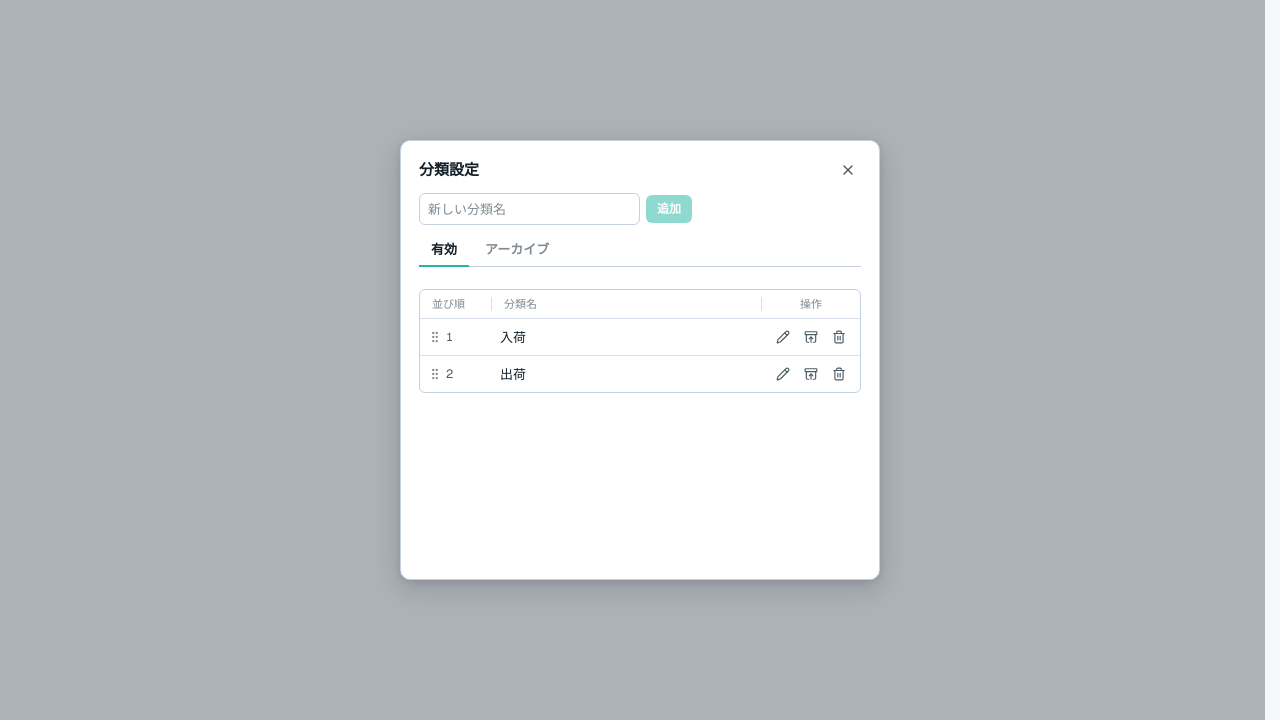
Test case: CategorySettingsDialog（rete-desk-0140） › 削除 409: backend の error.message（アーカイブ案内）をそのまま表示すること
Expected: the text "入荷" is shown, [500,328,526,346]
Click the button named "入荷 を削除": [839, 337] box [826,324,852,350]
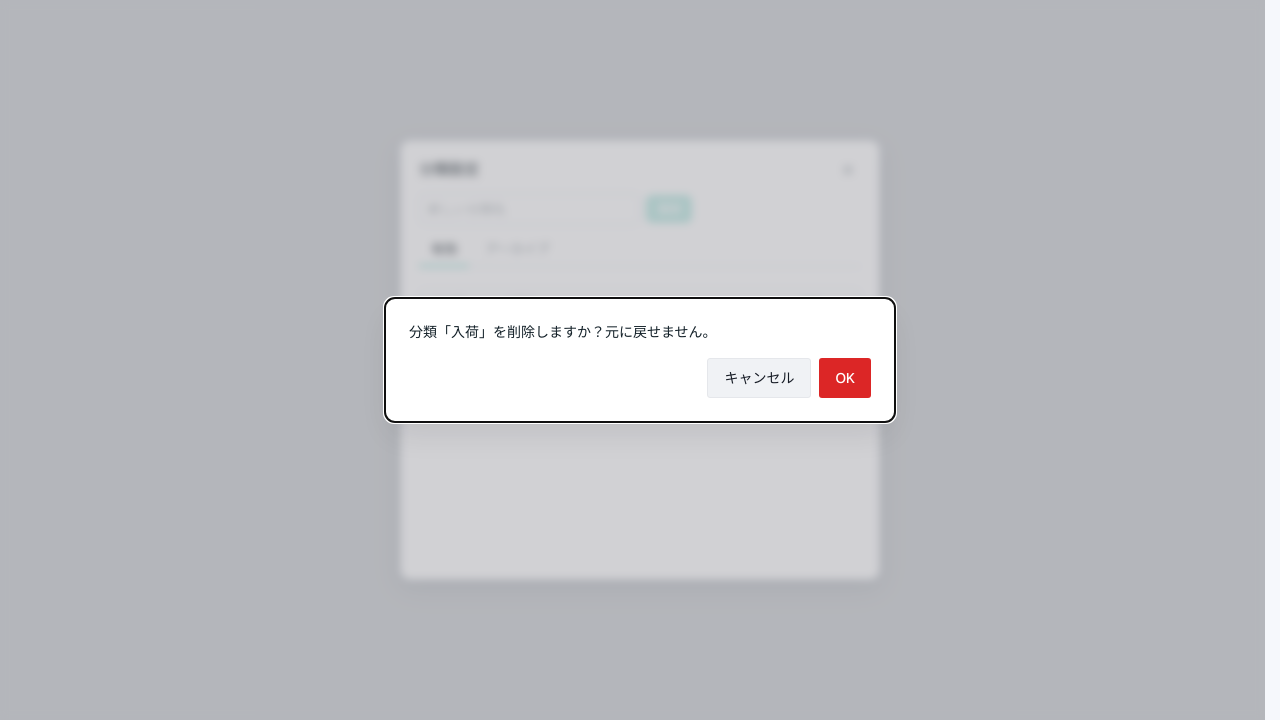
Click the button "OK": [845, 378] box [820,358,871,398]
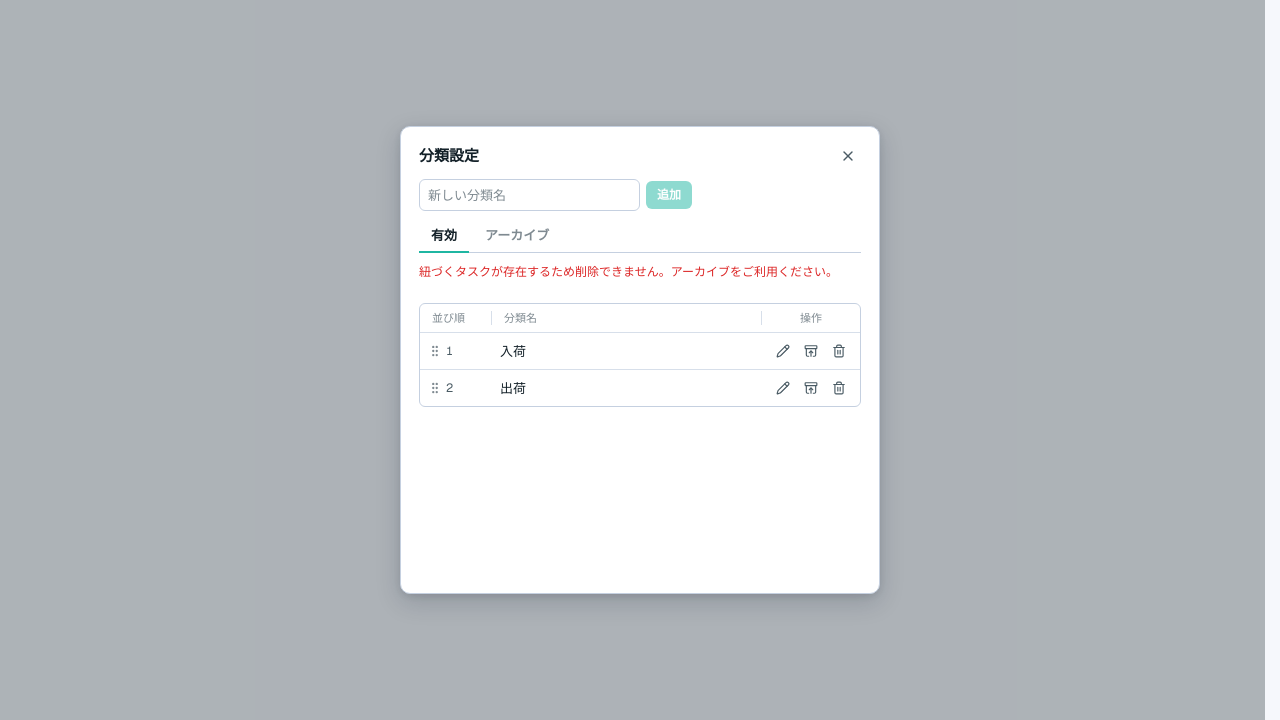
Now the text "紐づくタスクが存在するため削除できません。アーカイブをご利用ください。" is shown, box [419,263,861,281]
